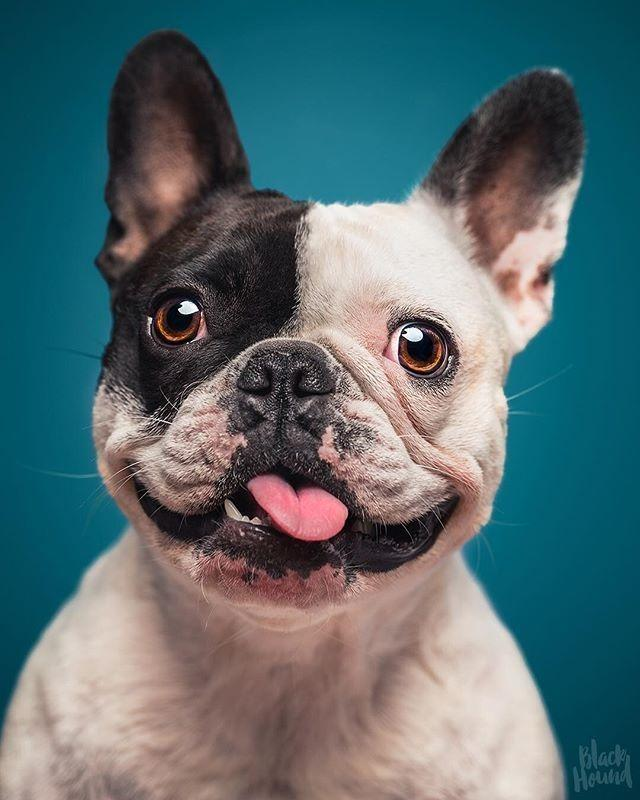adult_dog: (1, 21, 591, 800)
